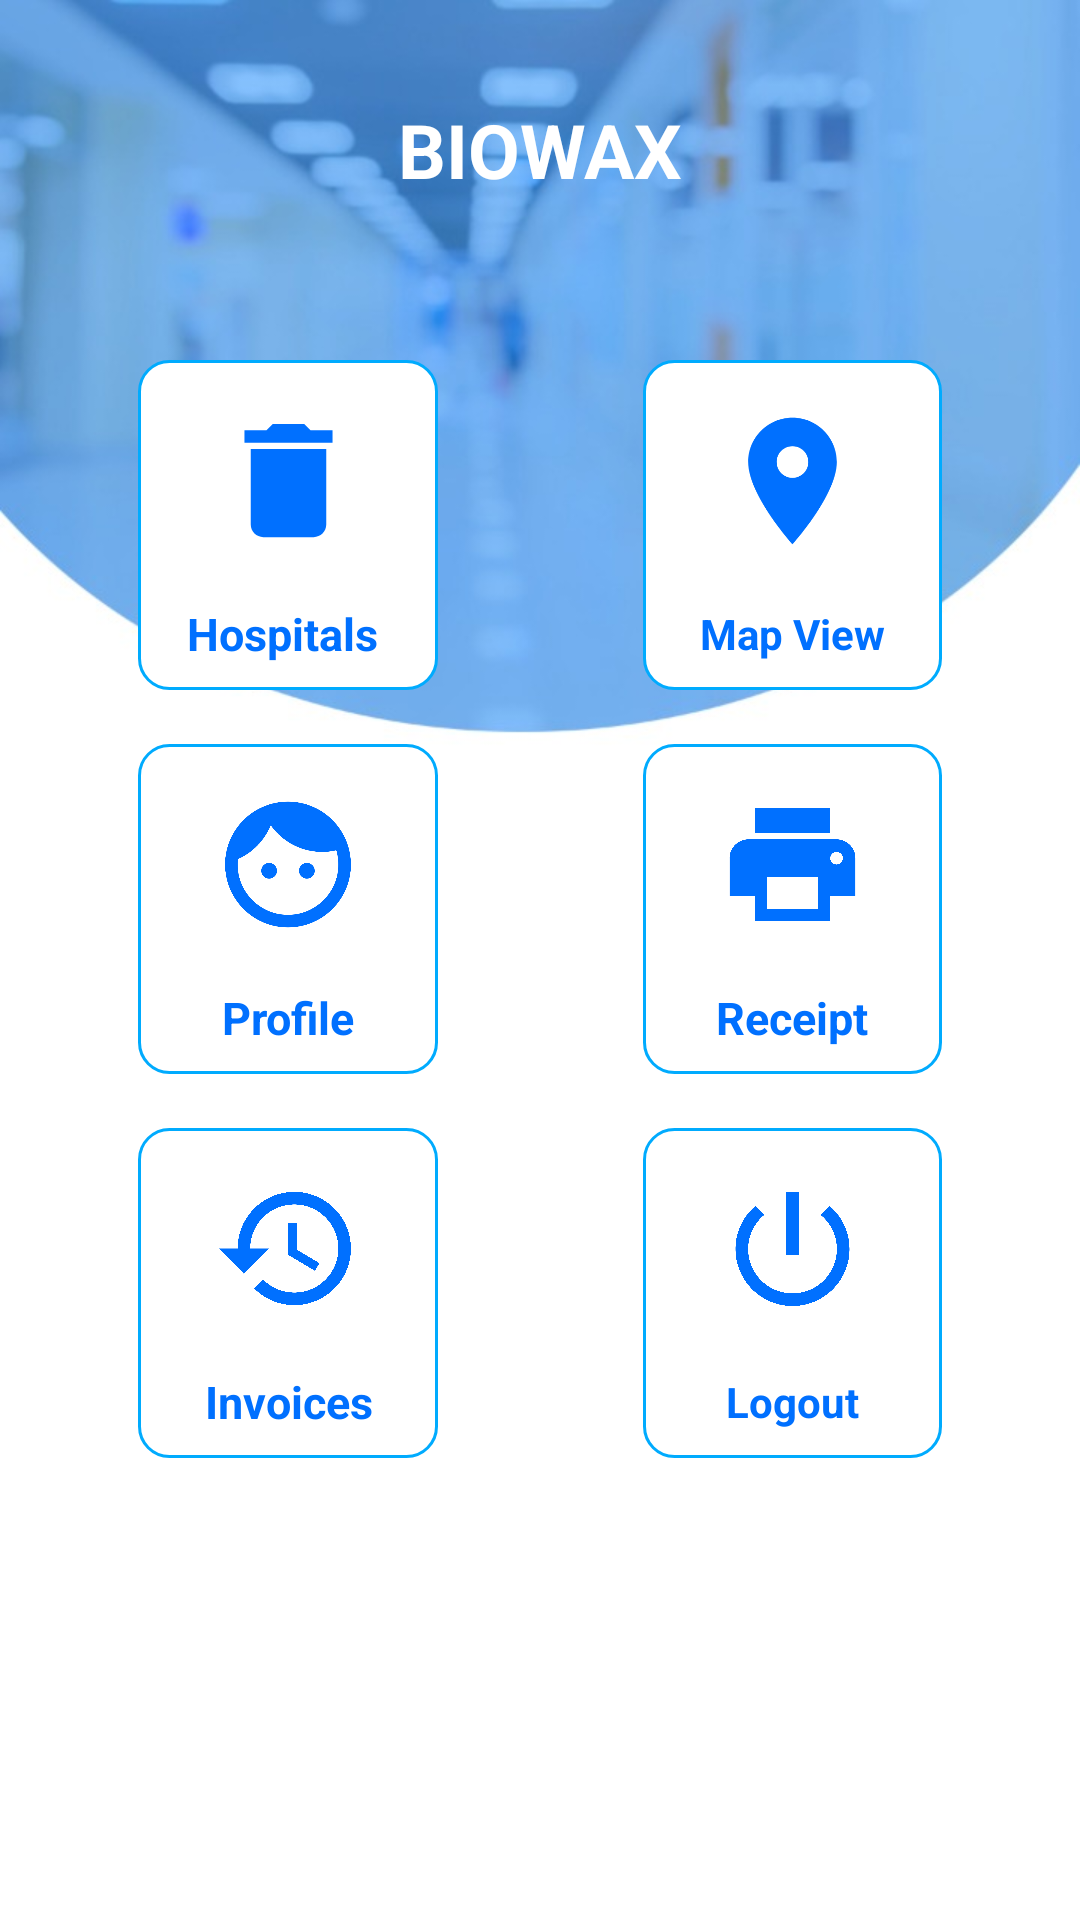

Named icons in this screenshot (1080px x 1920px) and their centers, (x=x, y=y):
bin: (x=288, y=480)
print: (x=792, y=864)
